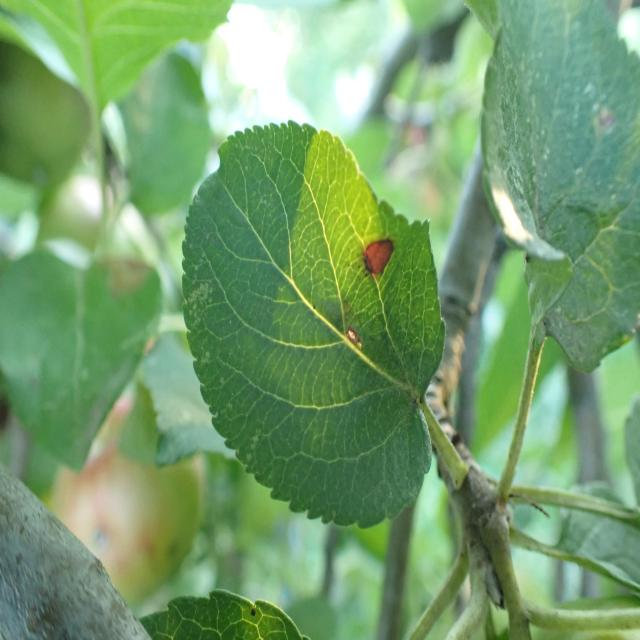frog-eye-leaf-spot: (180, 117, 448, 530)
